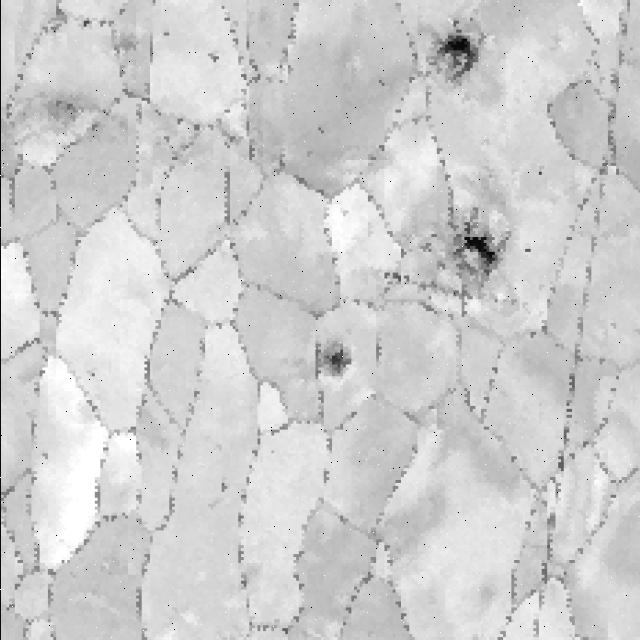good_void: (418, 202, 516, 306), (416, 12, 488, 92), (15, 75, 107, 136), (317, 331, 361, 388), (196, 34, 223, 79), (367, 60, 393, 97), (304, 112, 334, 144), (213, 472, 233, 505), (528, 161, 548, 189), (520, 241, 534, 260)
